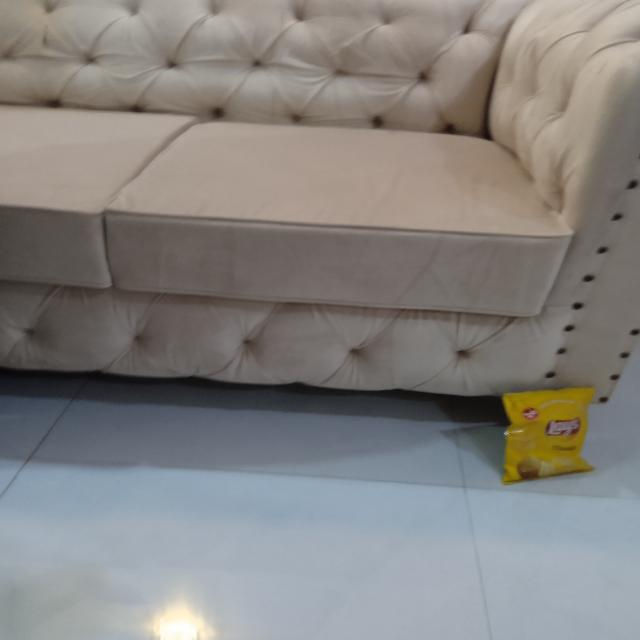Plastic: (494, 380, 608, 486)
